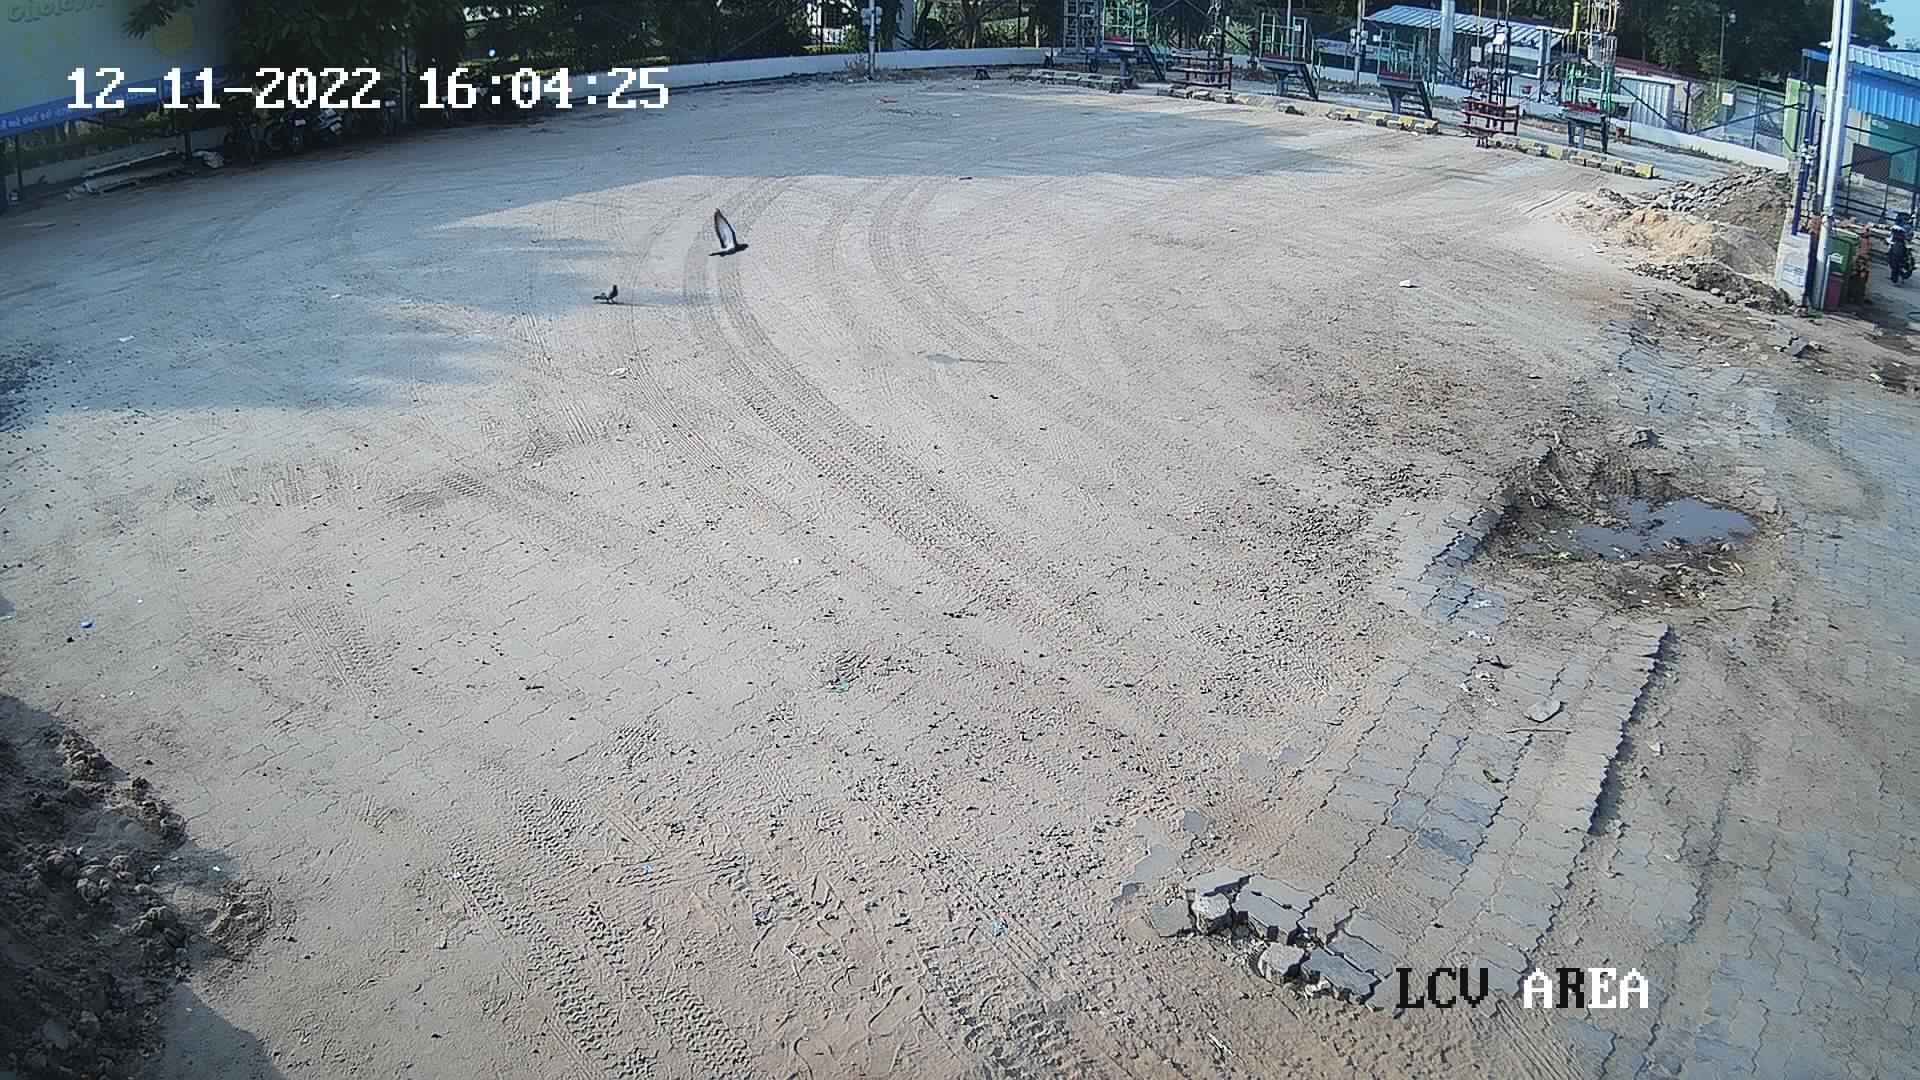Bike: (1865, 191, 1917, 291)
